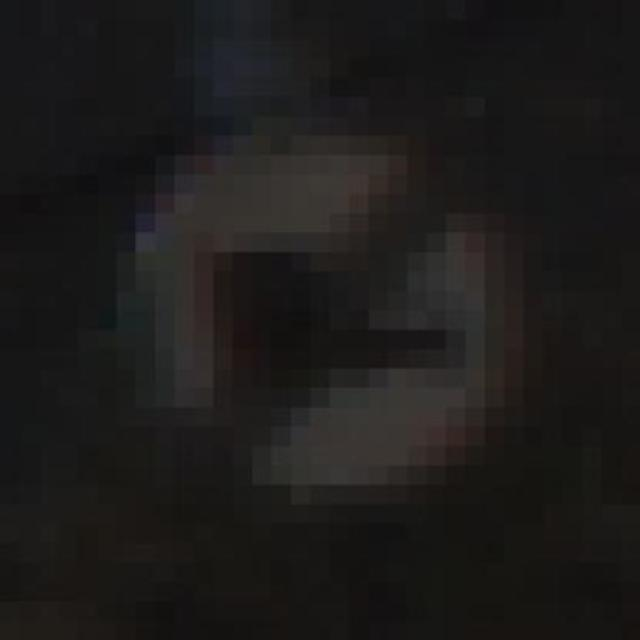Overtaking by trucks is prohibited: (58, 97, 582, 543)
